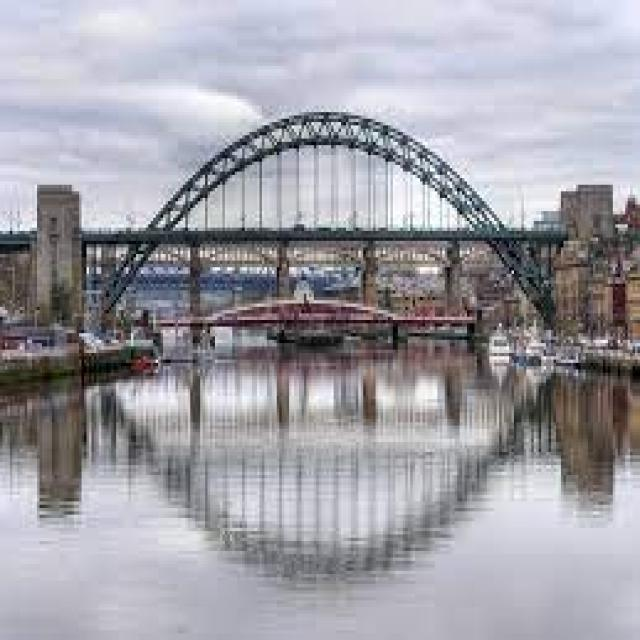Bridges: (1, 78, 640, 397)
